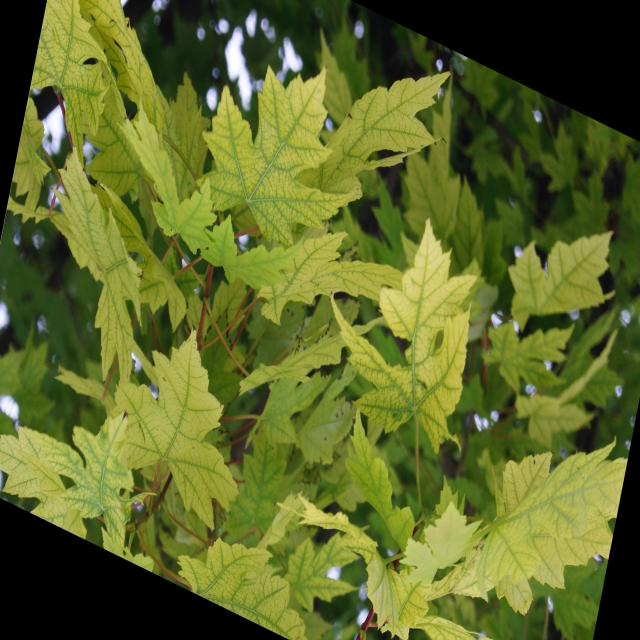Chlorosis: (64, 27, 411, 526)
